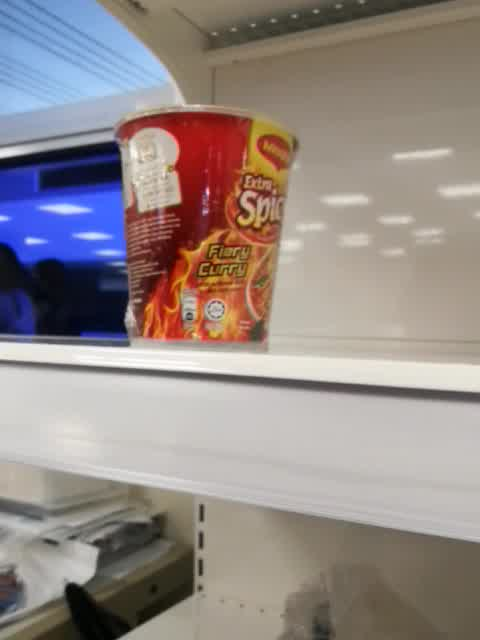maggi: (112, 103, 300, 353)
